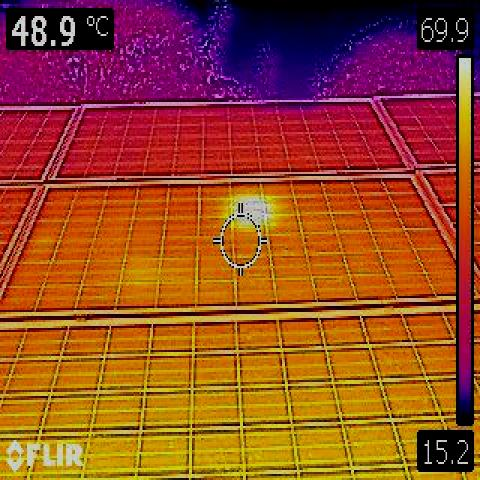fault: (236, 198, 265, 228)
